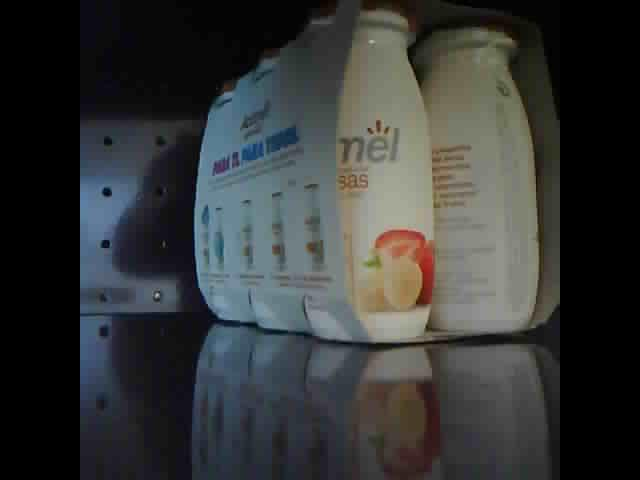alpro: (196, 1, 560, 345)
